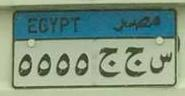5: (74, 51, 93, 78), (36, 52, 53, 78), (56, 52, 71, 76), (18, 53, 33, 76)
jeem: (123, 45, 147, 78), (98, 44, 120, 79)
seen: (149, 50, 174, 76)
